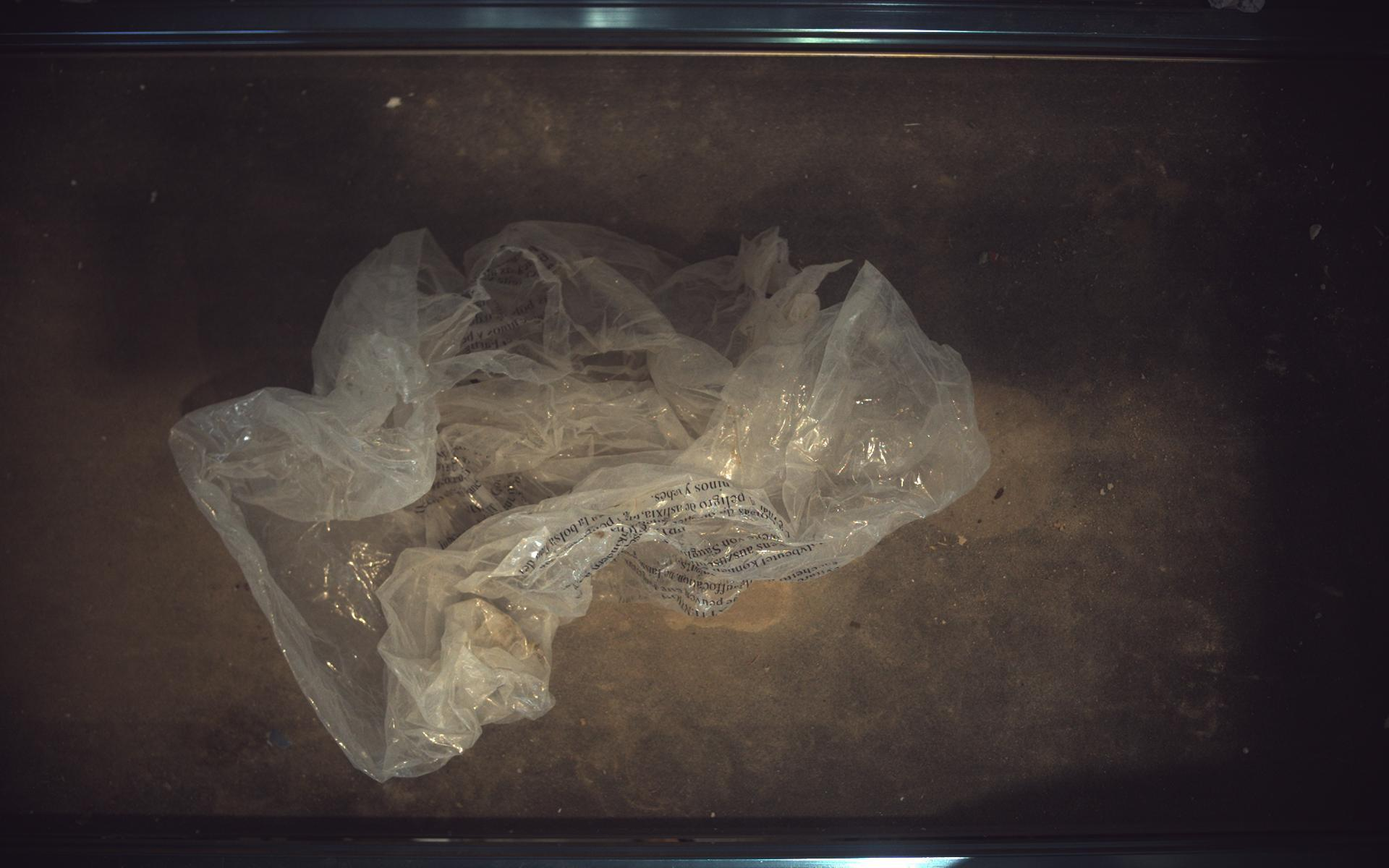general_w: (169, 220, 992, 781)
